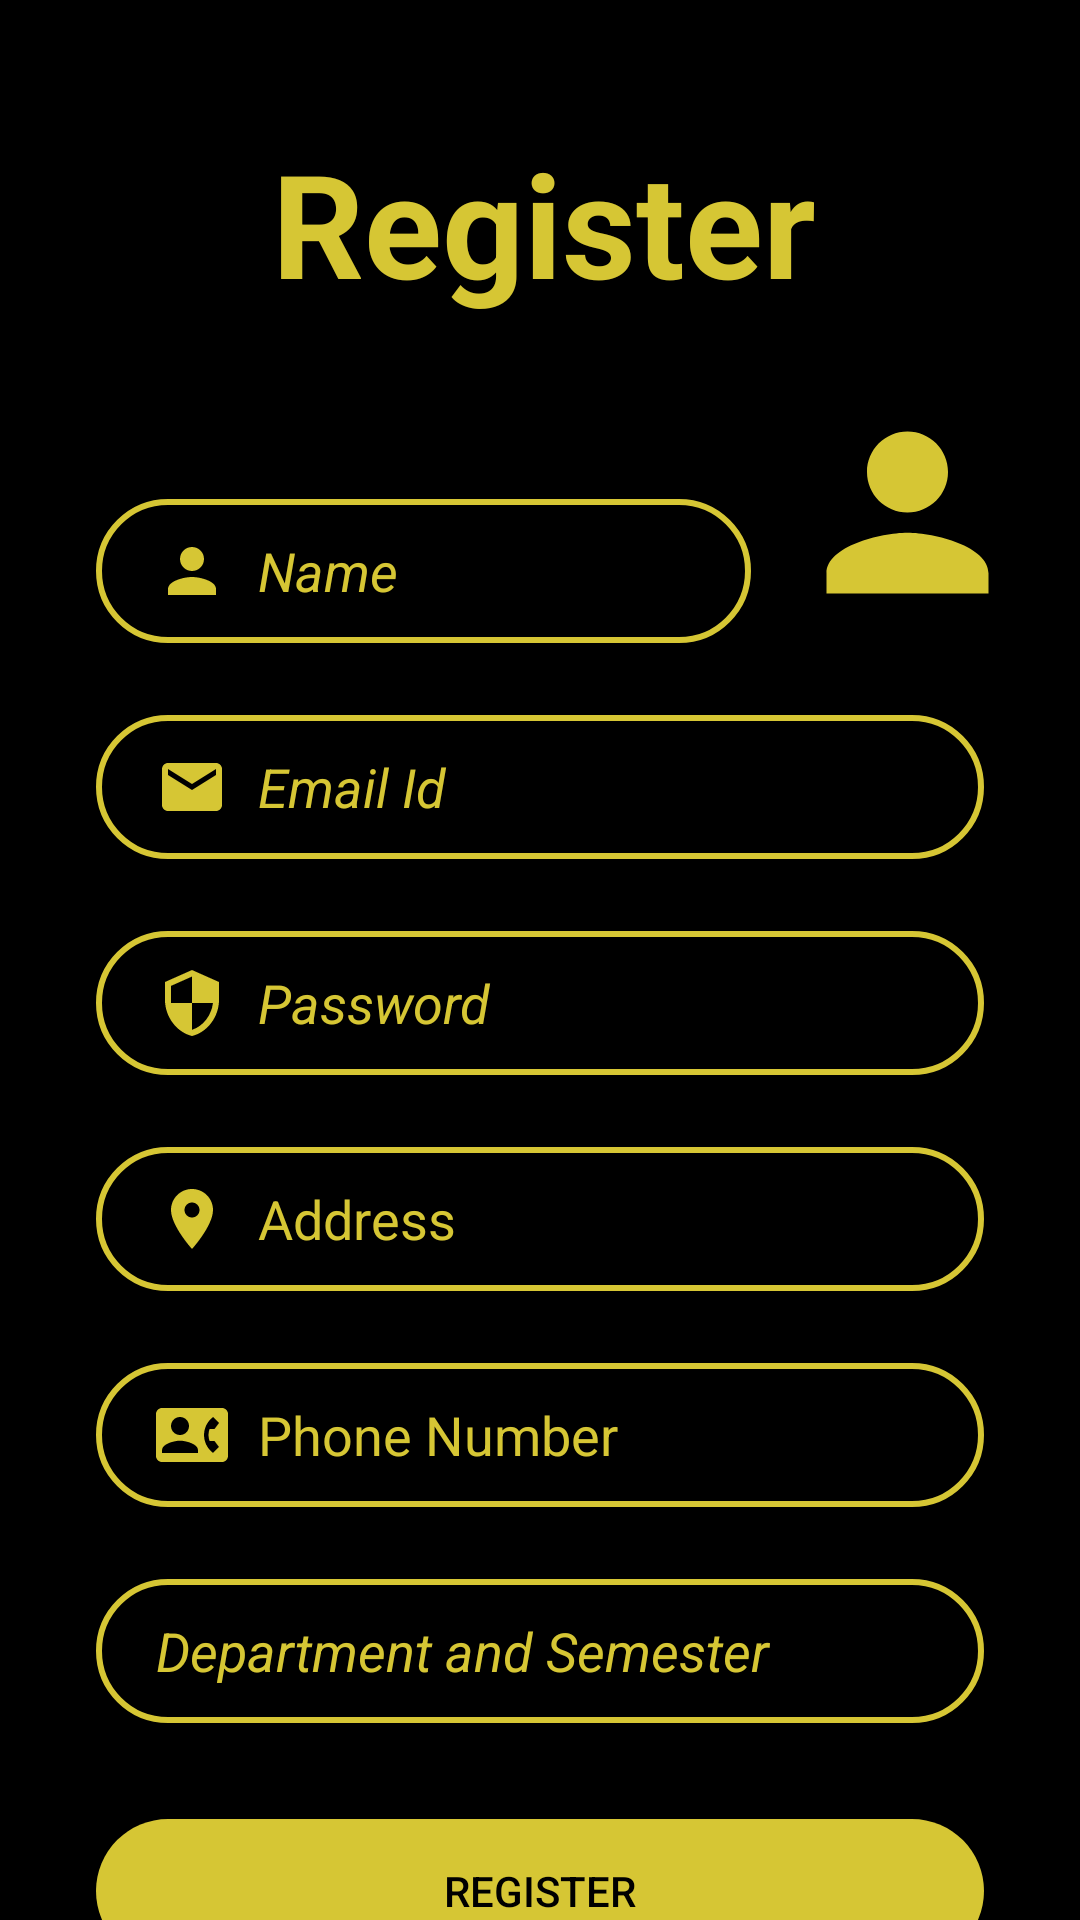

Icons on this 1080*1920 Android screen, each with the point to tap as (x,y):
Choose an image: (907,512)
